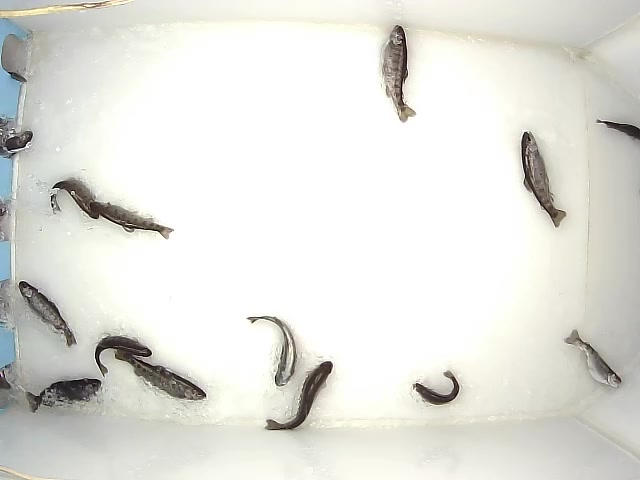fish: (113, 342, 207, 401), (264, 360, 333, 432), (519, 130, 568, 230), (17, 279, 79, 349), (245, 315, 301, 389), (563, 327, 623, 390), (380, 24, 417, 125), (89, 201, 175, 240), (23, 378, 102, 414), (94, 333, 153, 377), (48, 175, 101, 221), (411, 368, 461, 407)
